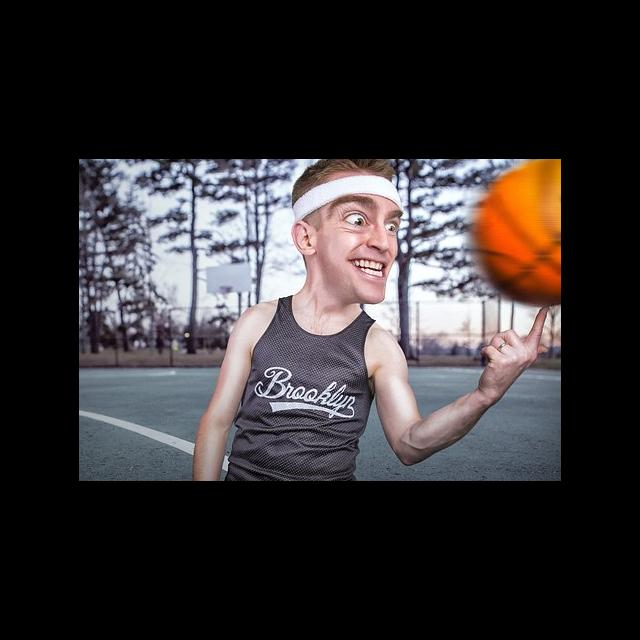male: (278, 165, 419, 293)
